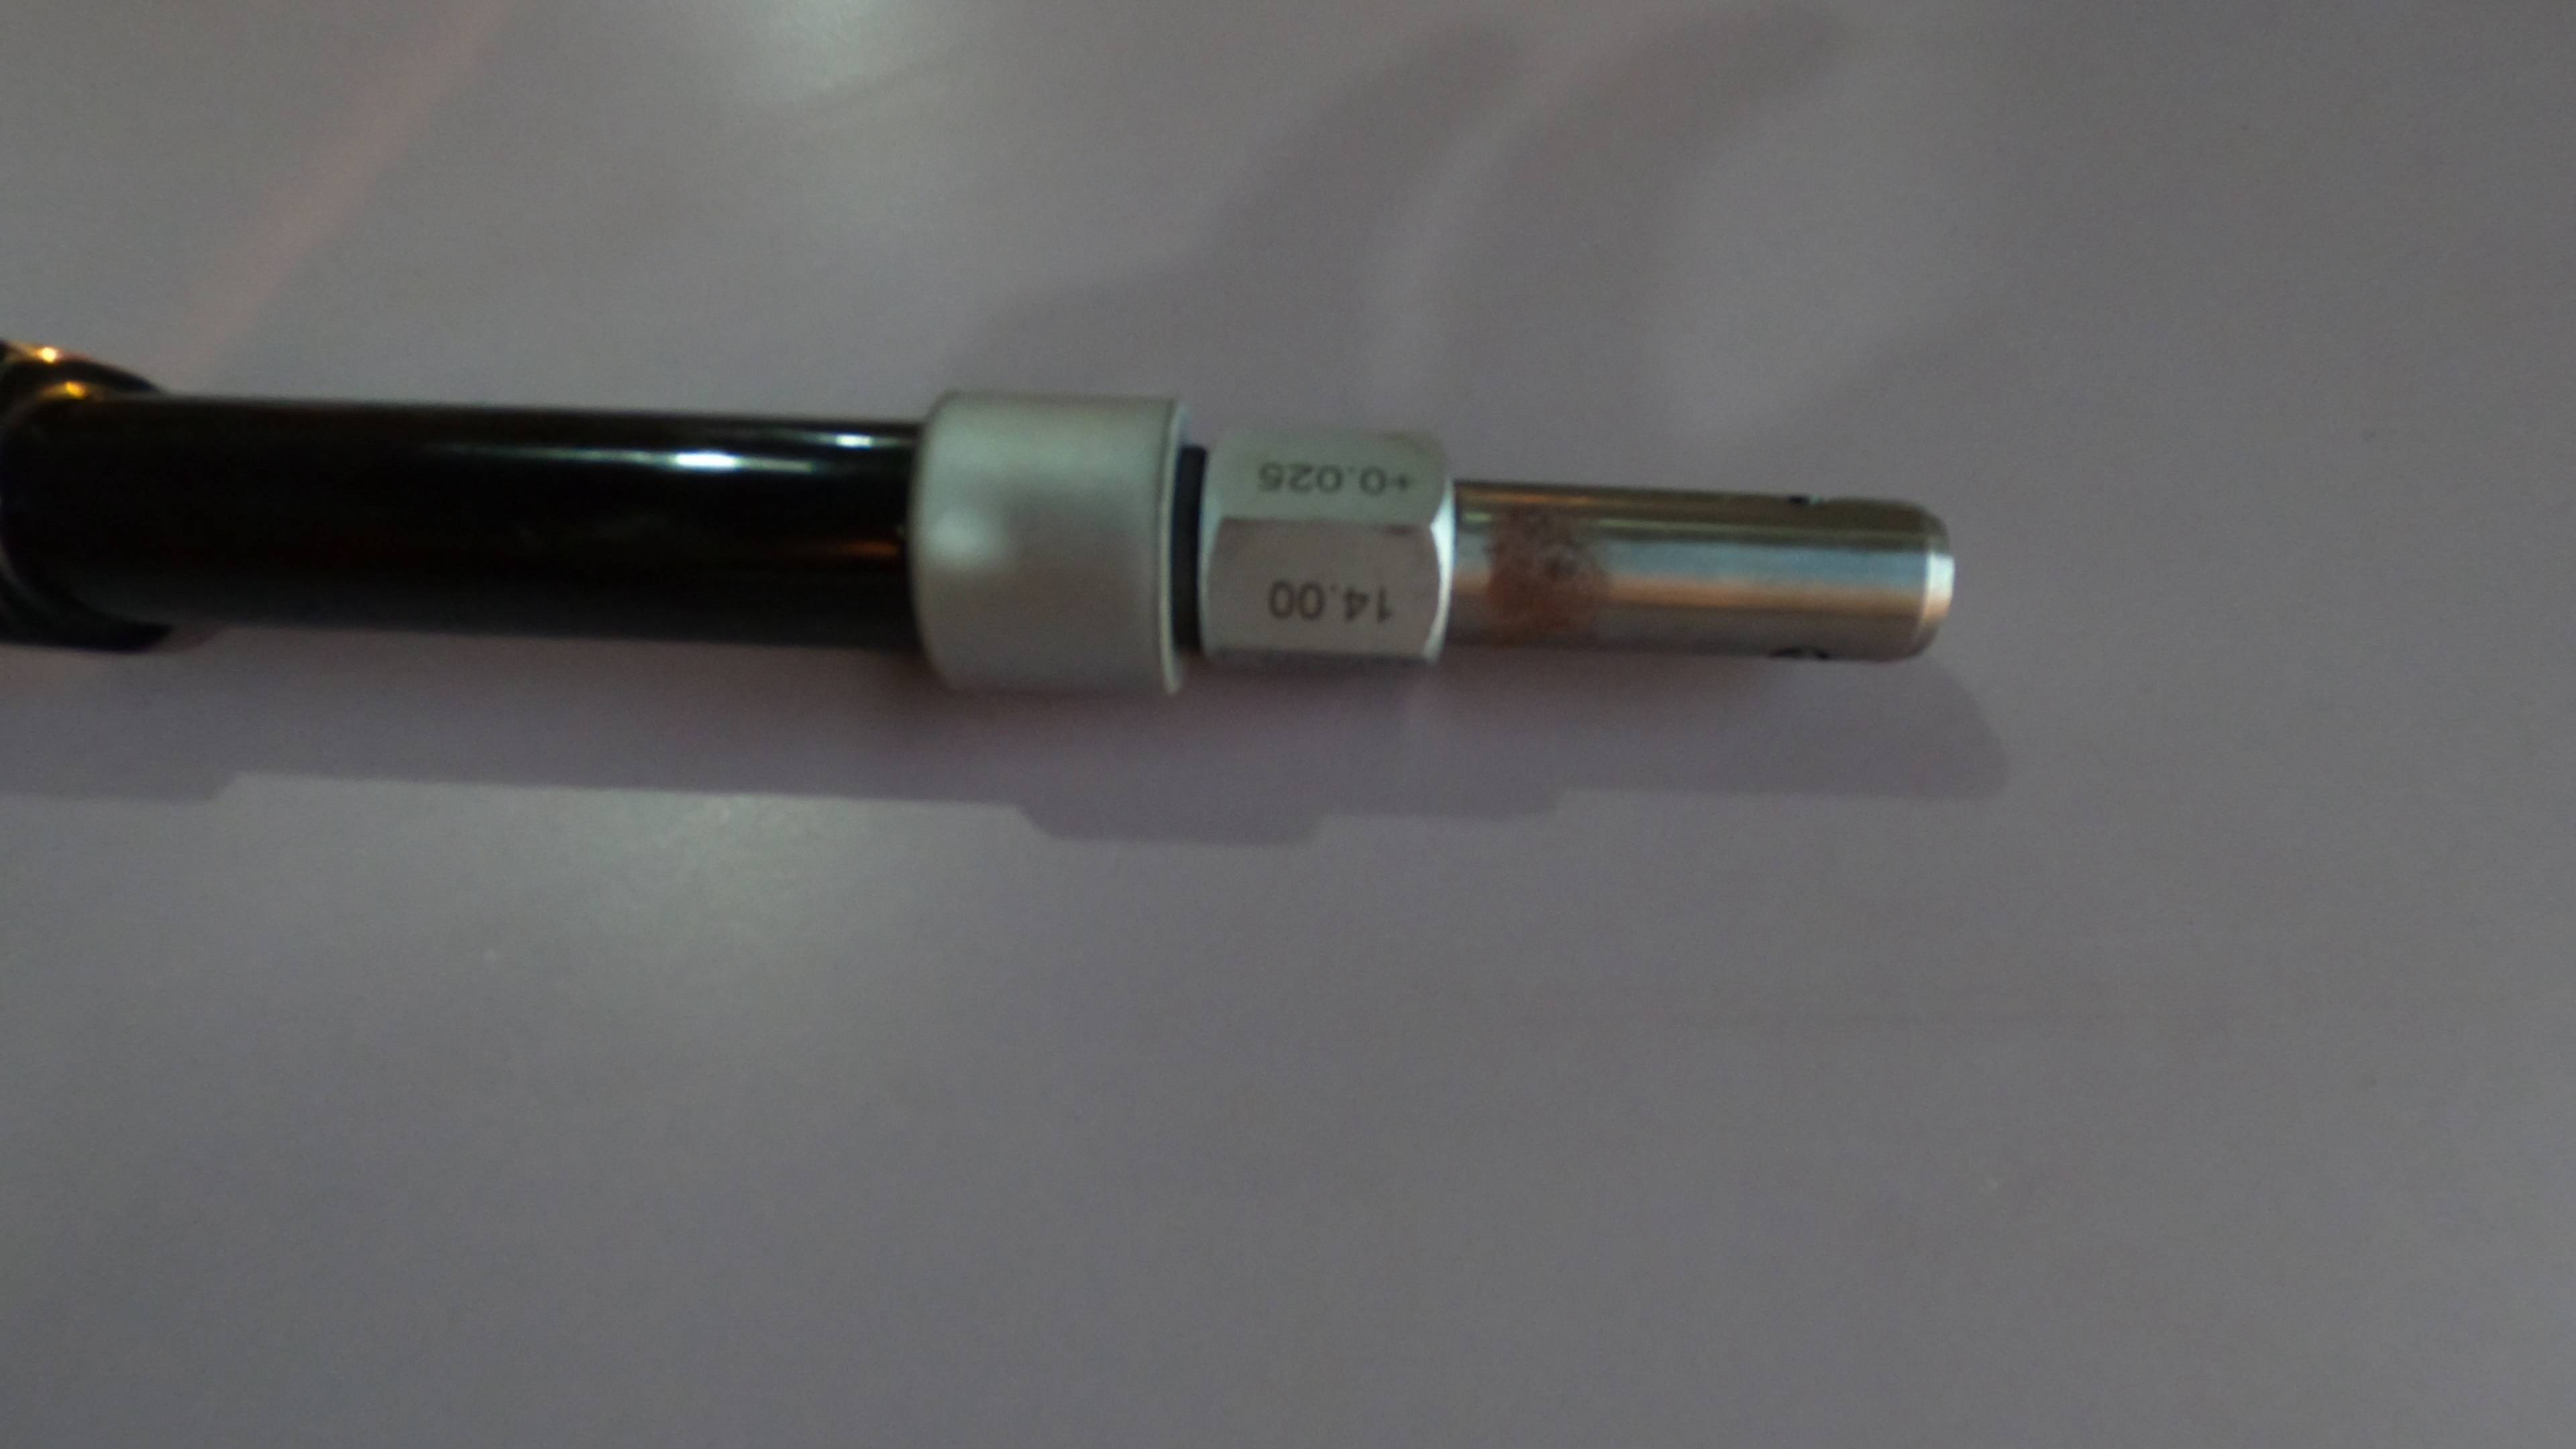air_gauge: (2, 334, 1976, 724)
